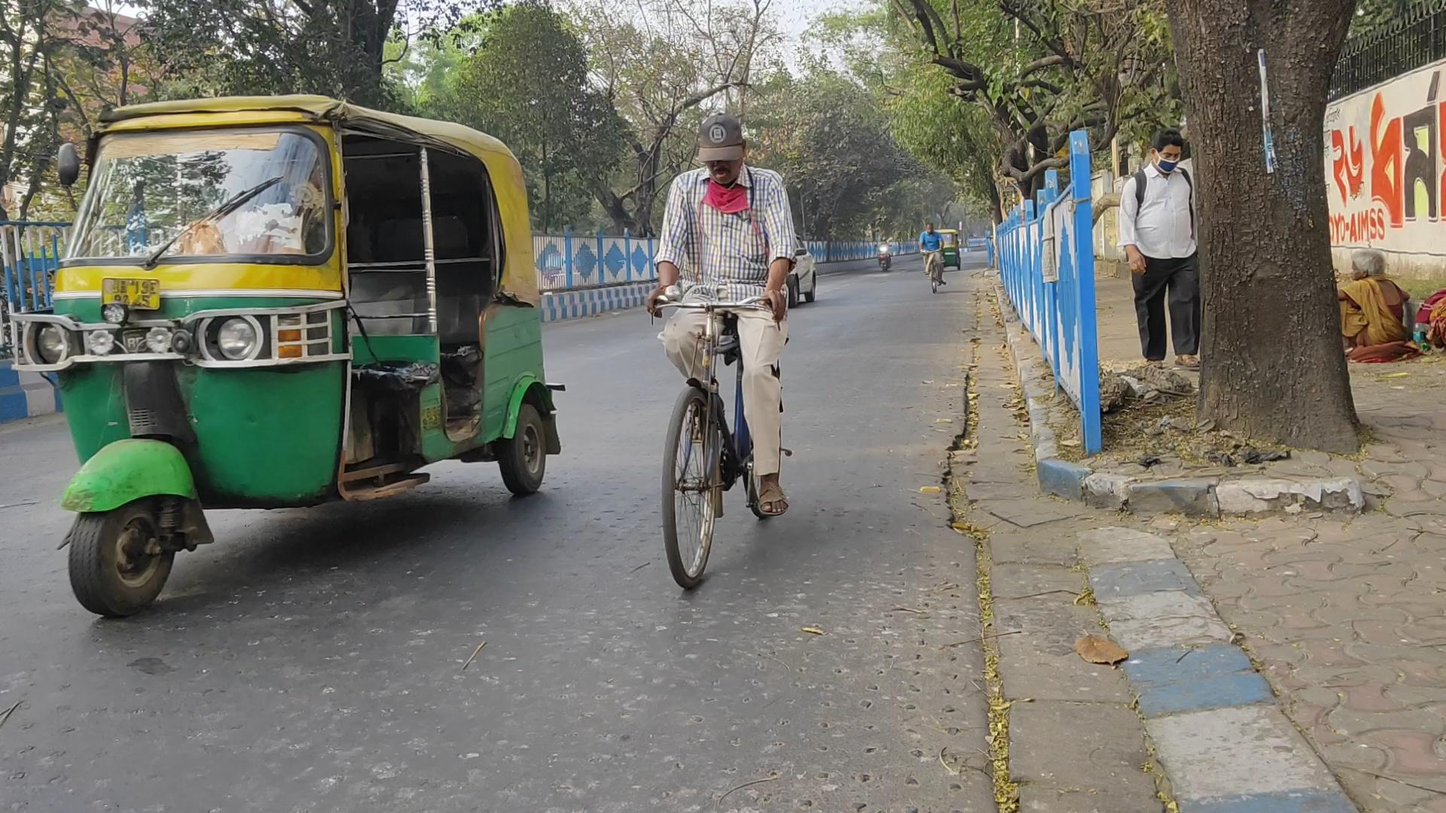Auto: (12, 92, 566, 616), (932, 228, 962, 272)
bike: (648, 115, 796, 592), (918, 221, 947, 294), (874, 235, 894, 273)
